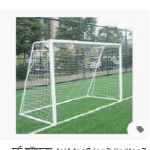goals: (19, 39, 123, 126)
